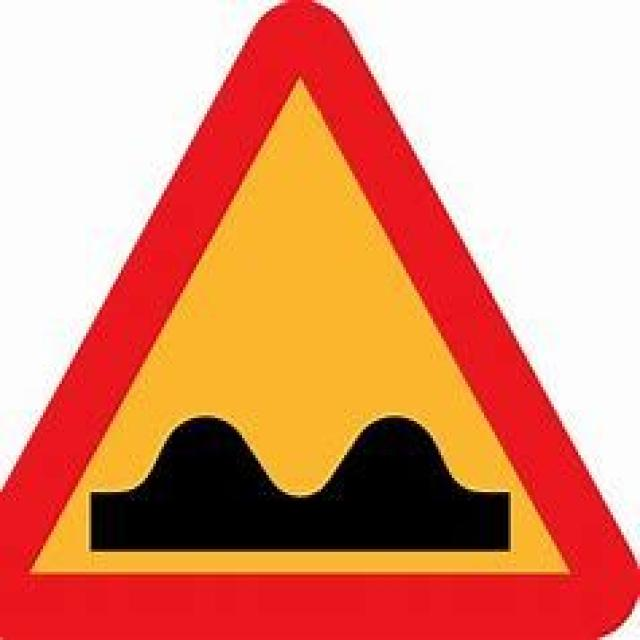horn_prohibited: (0, 0, 637, 637)
